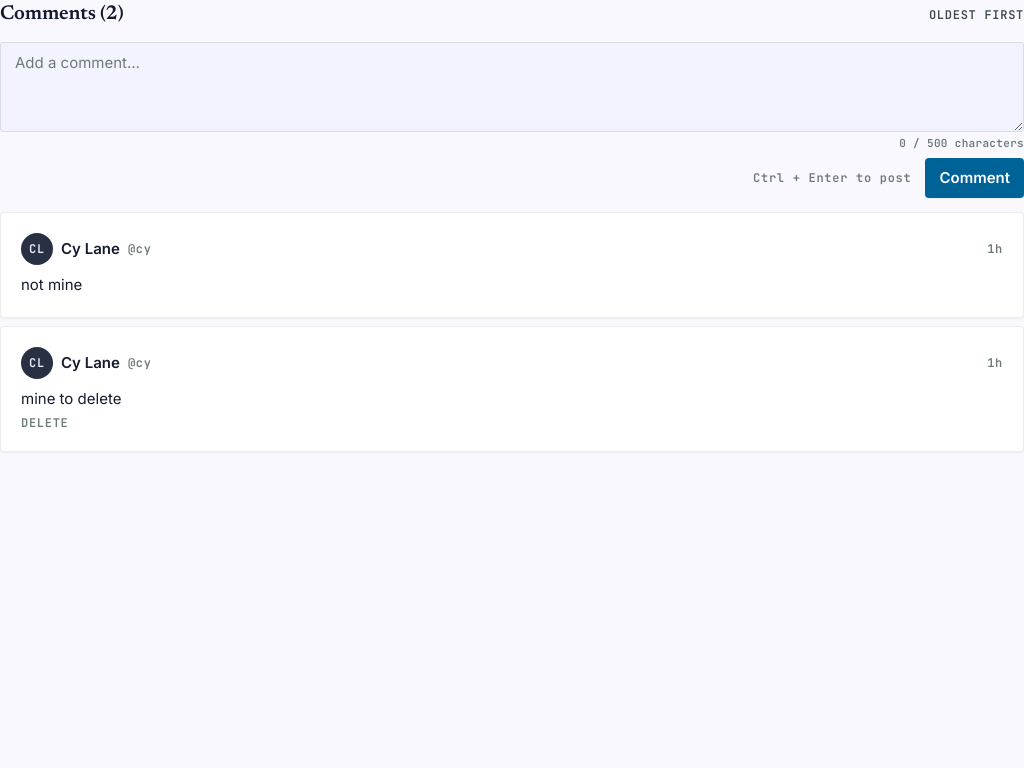
CommentSection › asks before it deletes, then removes the comment and lowers the count
The width and height of the screenshot is (1024, 768).
Expected: the text "mine to delete" is shown, x1=21 y1=389 x2=121 y2=408
Click the button "Delete". click: point(45, 423)
box: x1=21 y1=415 x2=68 y2=431
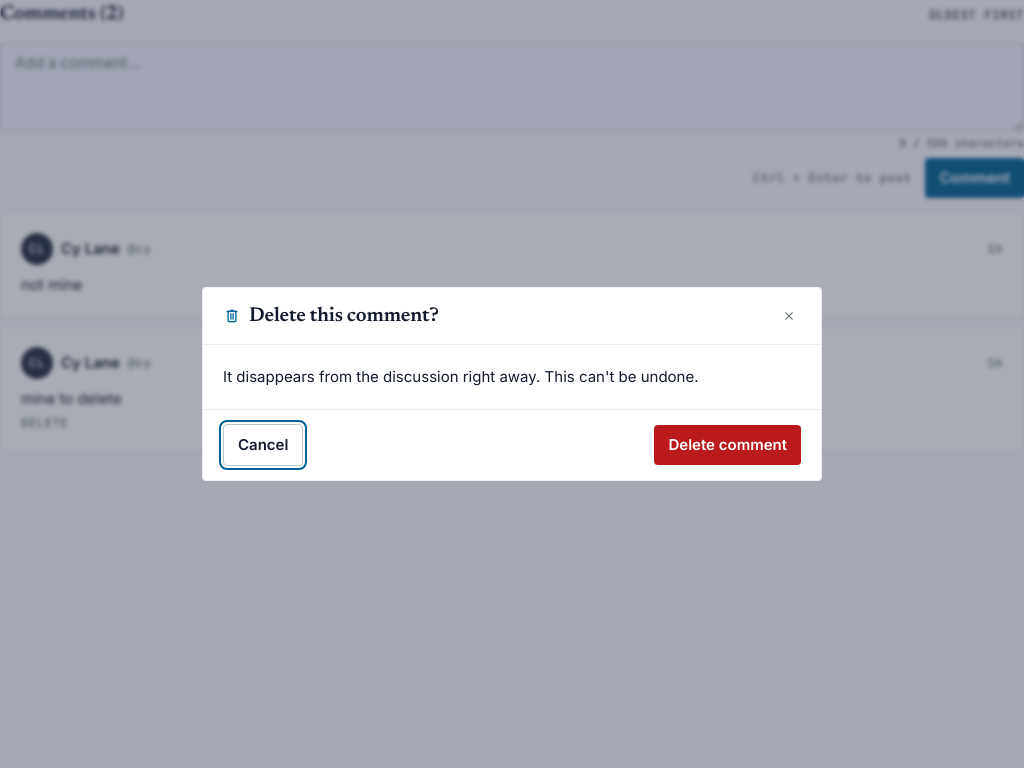
Click the button "Delete comment". click: point(728, 445)
box: x1=654 y1=425 x2=801 y2=465
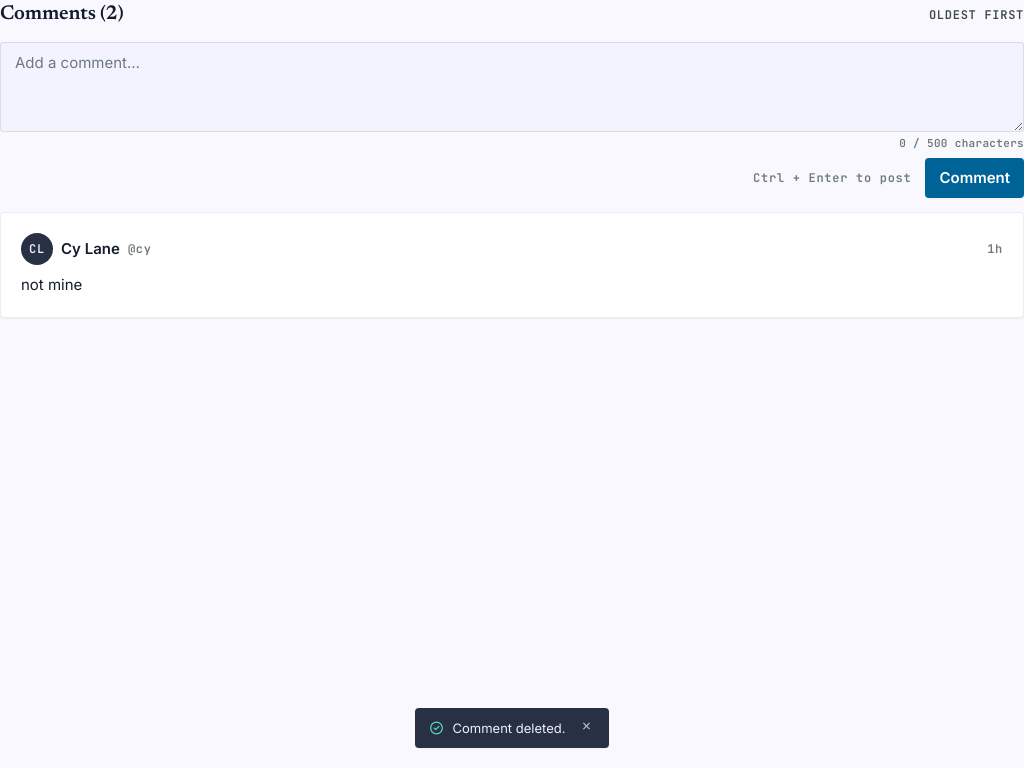
Expected: the text "not mine" is shown, x1=21 y1=275 x2=82 y2=294
Now the text "mine to delete" is gone
Now the text "Comment deleted." is shown, box x1=452 y1=718 x2=565 y2=738
